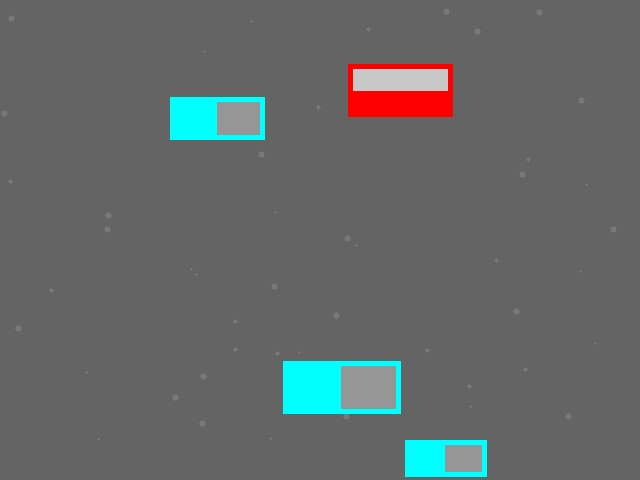car: (348, 64, 452, 116)
truck: (283, 361, 400, 413), (170, 97, 264, 139), (405, 440, 486, 476)
